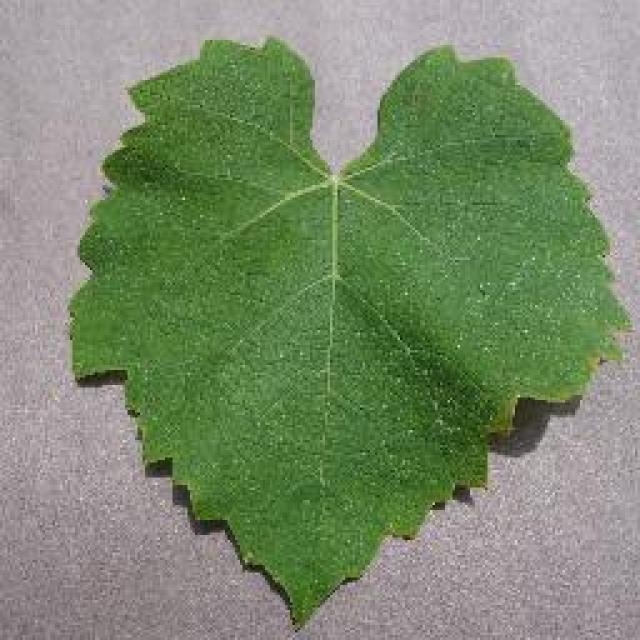Grape___healthy: (72, 40, 628, 622)
